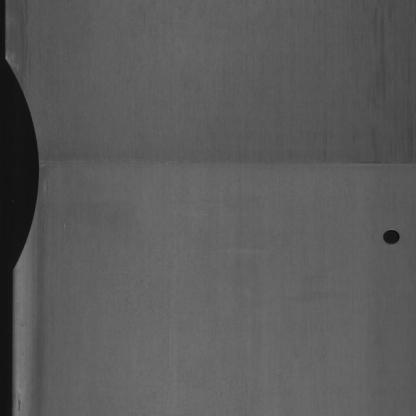punching_hole: (379, 216, 404, 250)
welding_line: (36, 151, 416, 182)
